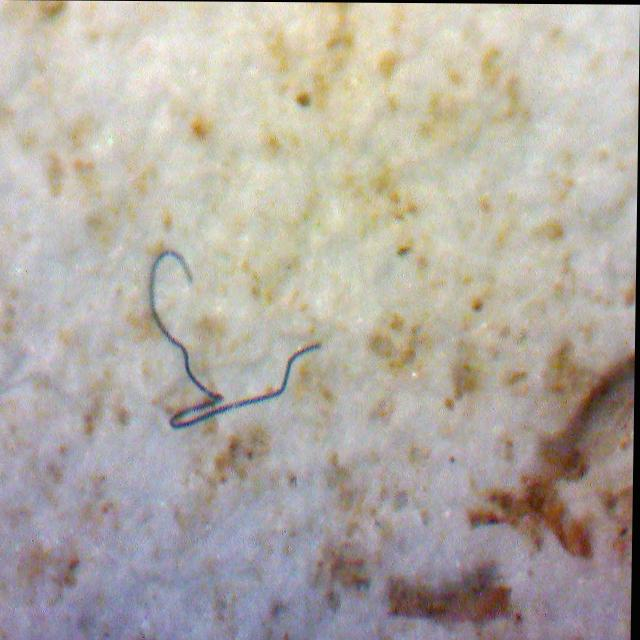microplastic: (85, 243, 325, 471)
